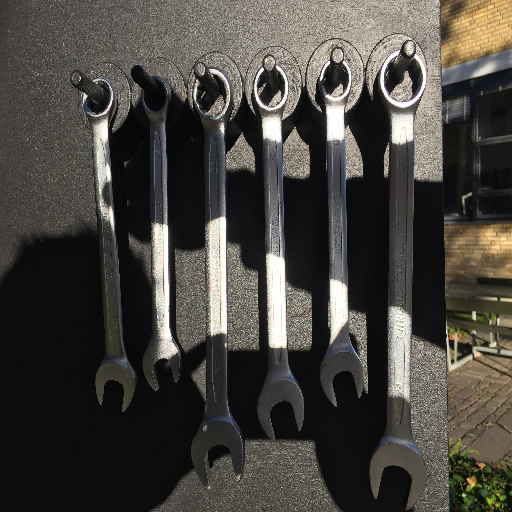bottom: (368, 435, 429, 511), (188, 418, 247, 490), (255, 373, 306, 443), (320, 346, 365, 408), (93, 358, 138, 415), (141, 337, 185, 395)
top: (378, 48, 426, 111), (192, 66, 235, 123), (251, 64, 290, 117), (80, 77, 121, 124), (316, 59, 354, 107), (138, 75, 174, 118)
